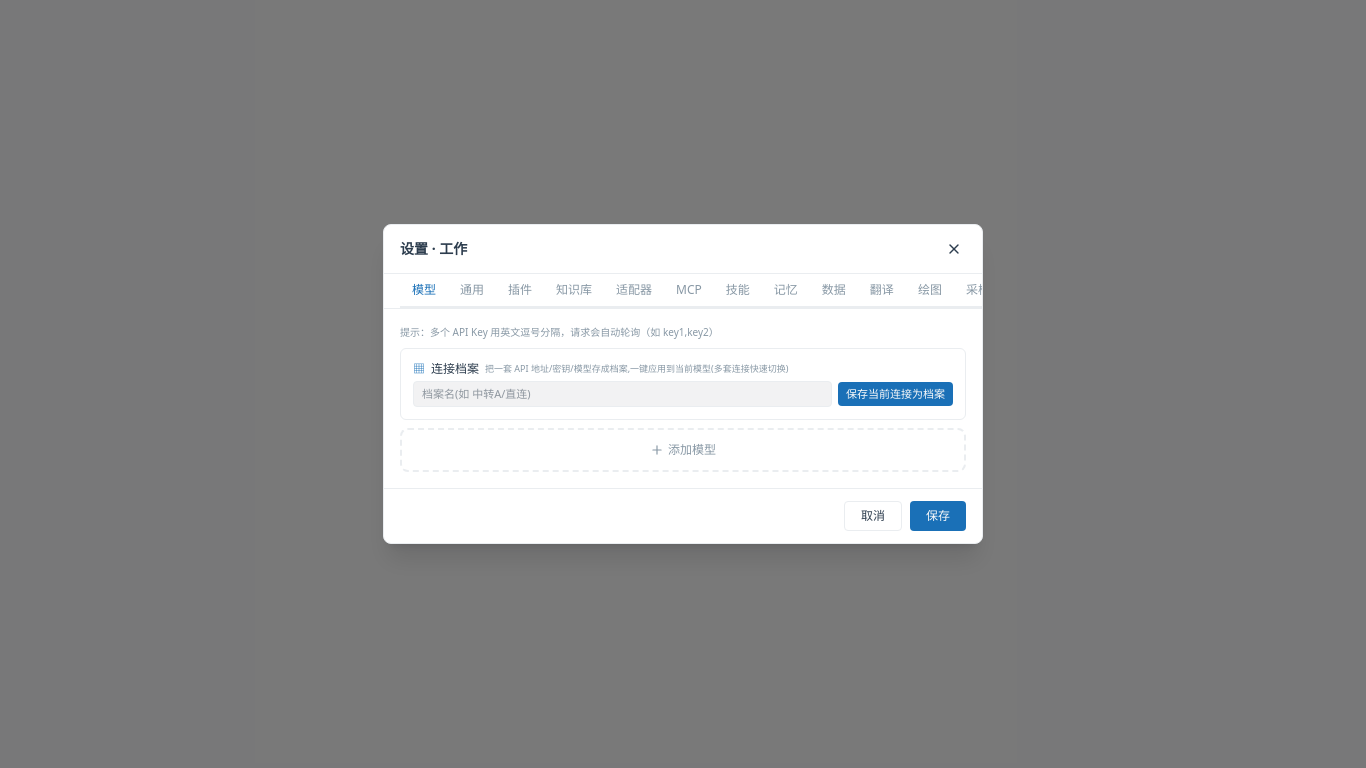
Test: SettingsDialog — 绘图 tab › 切到 ComfyUI 后出现工作流 JSON，并立即保存 draw_engine / 默认地址
Click the button "绘图". click: click(930, 291)
box: [906, 274, 954, 308]
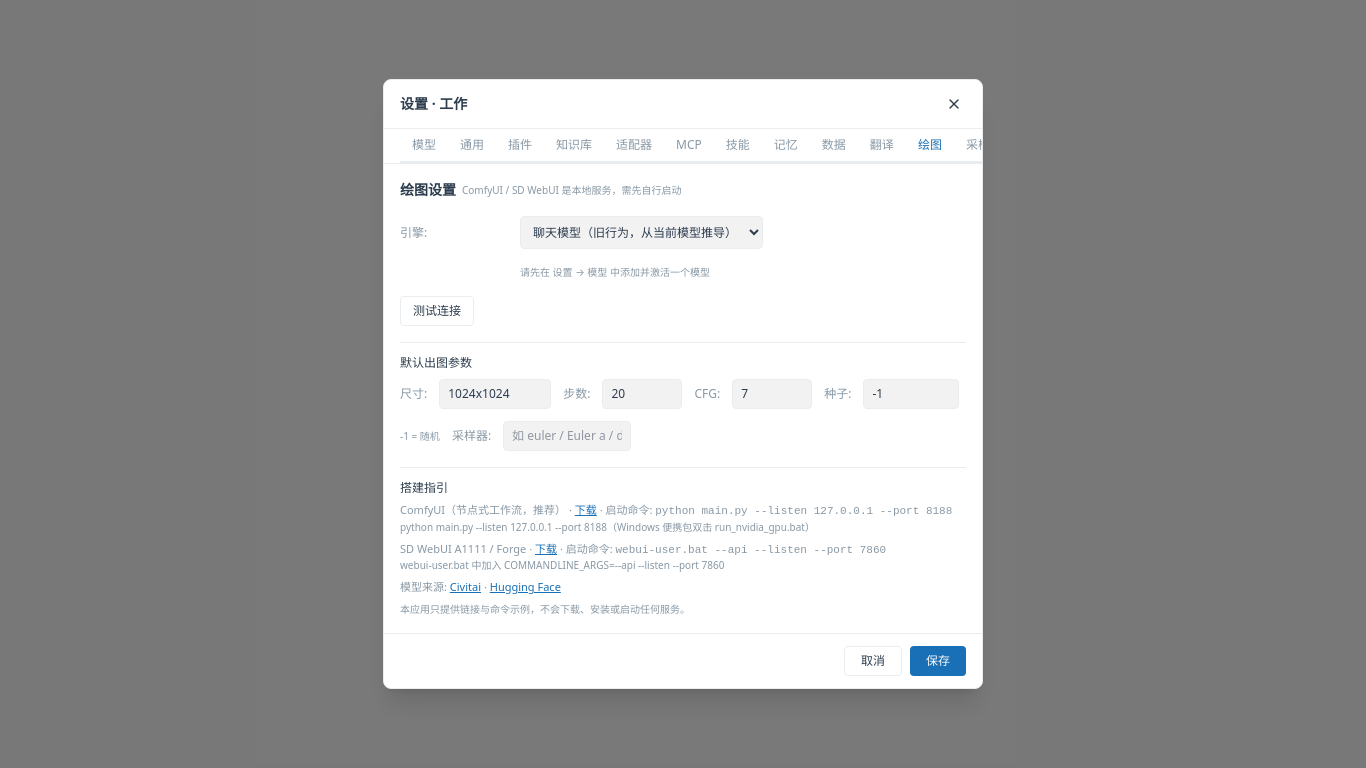
Select "ComfyUI" in the dropdown labelled "引擎:". click: (642, 233)
box: [520, 216, 763, 249]
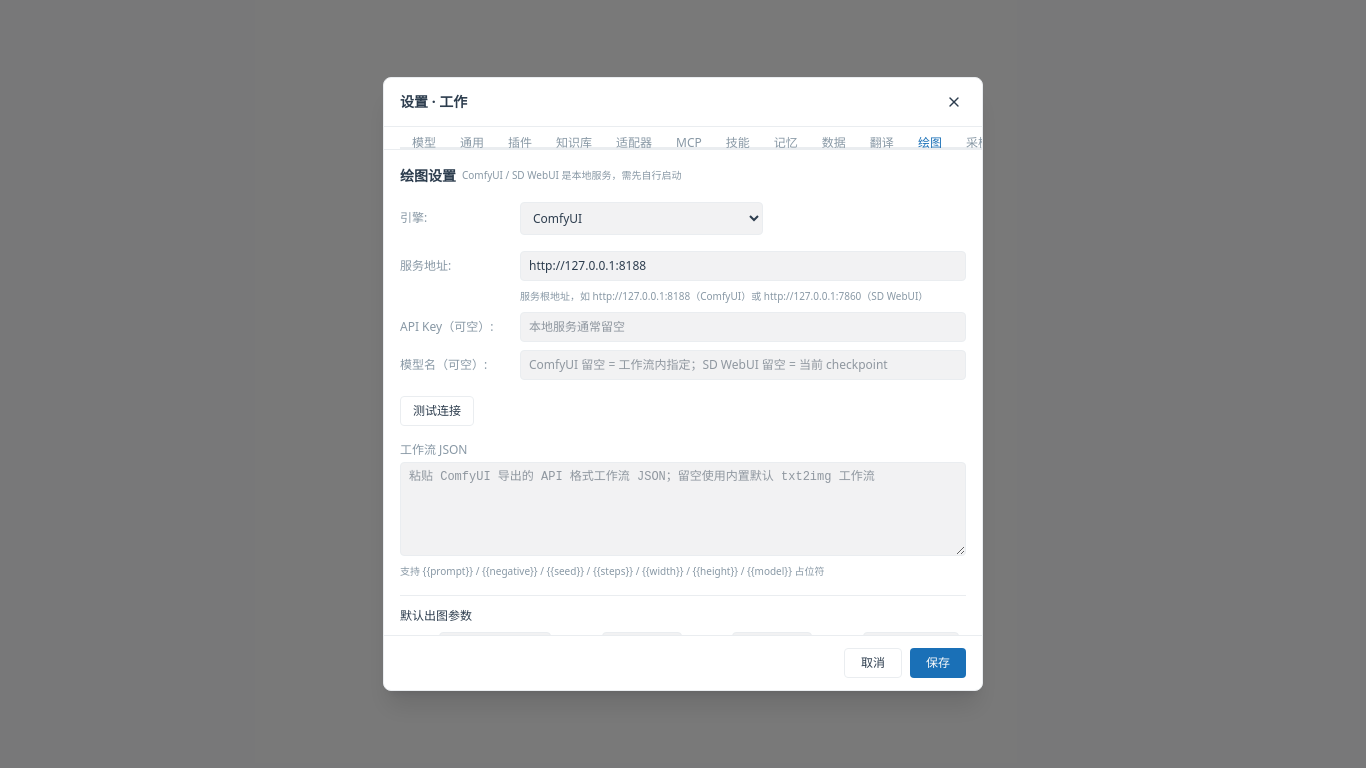
Result: the text box labelled "工作流 JSON" is shown at [400, 462, 966, 556]
Result: the field labelled "服务地址:" holds "http://127.0.0.1:8188" at [520, 251, 966, 281]
